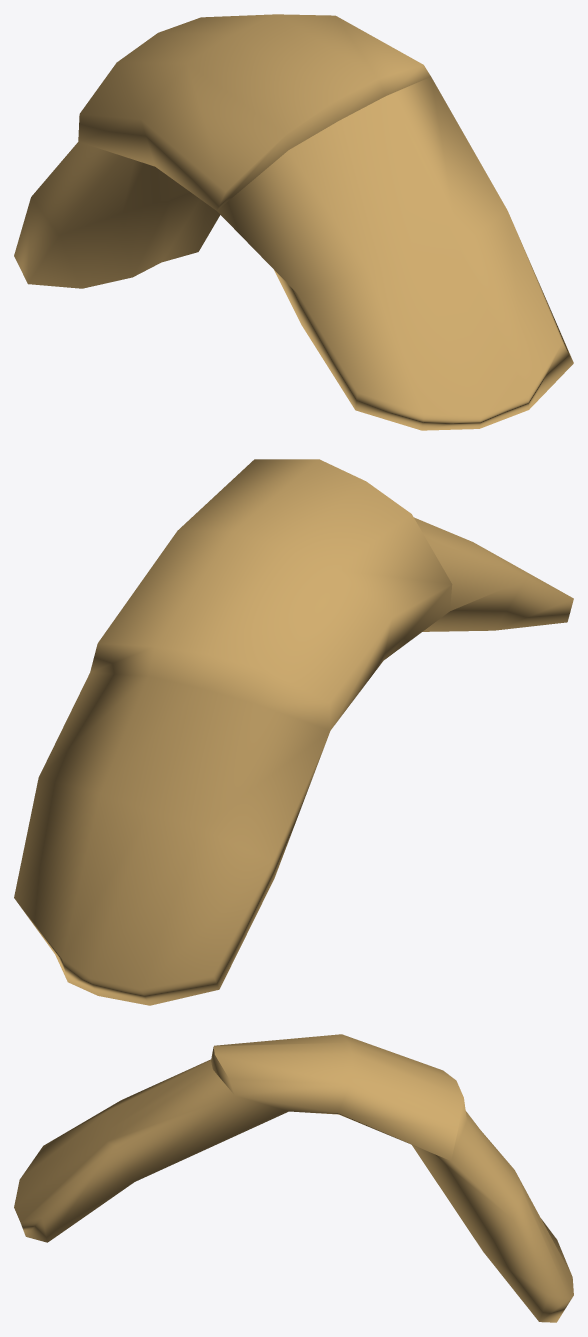
File: SM_PLASTER_WORM.fbx
3 renders of one model, top to bottom at view 1: azimuth 30°, elevation 25°; view 2: azimuth 150°, elevation 25°; view 3: azimuth 270°, elevation 25°, orthographic. The views are drawn at different scales.
Parts seen in each view (by area): view 1: Plane; view 2: Plane; view 3: Plane.
Part boxes in pixels (left/top/right/bottom): Plane: left=14, top=14, right=573, bottom=430; Plane: left=14, top=459, right=573, bottom=1005; Plane: left=14, top=1034, right=573, bottom=1322.
Bounding box in the file's own units: 17.96 × 26.65 × 50.71.
